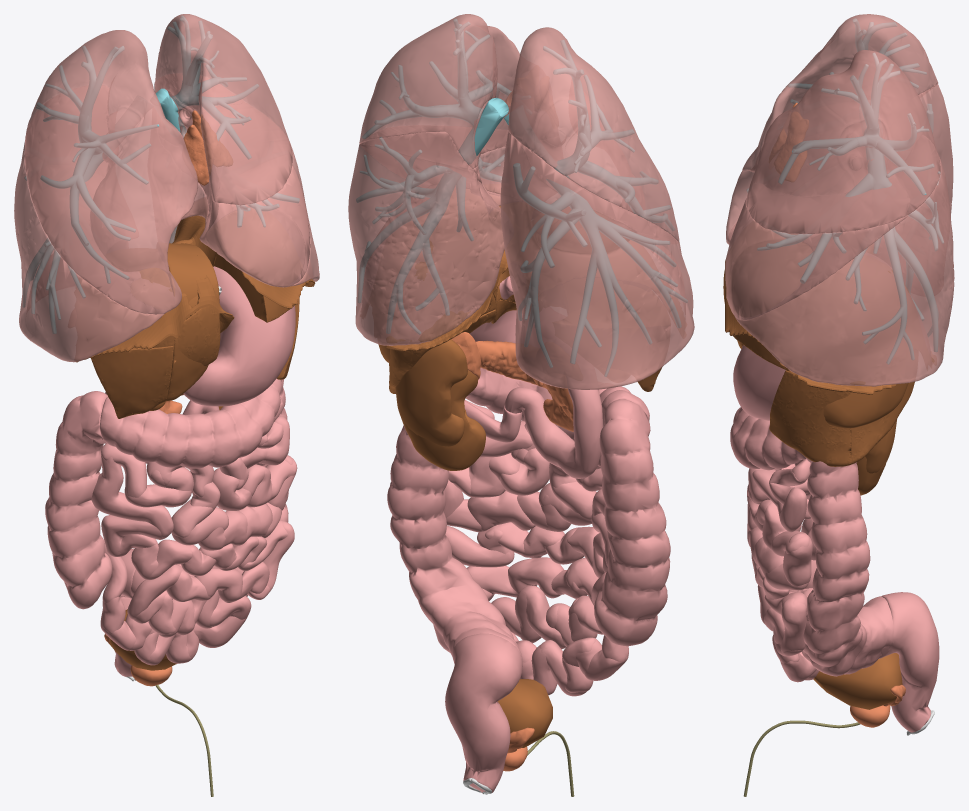
File: organs.glb
3 renders of one model, left to right at view 1: azimuth 30°, elevation 25°; view 2: azimuth 150°, elevation 25°; view 3: azimuth 270°, elevation 25°, orthographic. The views are drawn at different scales.
Visible parts, largest first — view 1: Organo_lobulo_superior_izq, Organo_intestino_delgado, Organo_lobulo_inferior_izq, Organo_lobulo_superior_der, Organo_lobulo_medio_der, Organo_colon_descendente, Organo_colon_transverso, Organo_colon_flexura_hepatica, Organo_bronquio_izq, Organo_bronquio_der, Organo_rinon_corteza_izq, Organo_lobulo_inferior_der (+12 smaller); view 2: Organo_lobulo_inferior_izq, Organo_intestino_delgado, Organo_lobulo_inferior_der, Organo_lobulo_superior_izq, Organo_lobulo_superior_der, Organo_colon_descendente, Organo_bronquio_izq, Organo_bronquio_der, Organo_colon_ascendente, Organo_colon_sigmoide, Organo_rinon_corteza_der, Organo_colon_flexura_esplenica (+9 smaller); view 3: Organo_lobulo_inferior_der, Organo_lobulo_superior_der, Organo_lobulo_medio_der, Organo_colon_ascendente, Organo_intestino_delgado, Organo_bronquio_der, Organo_lobulo_superior_izq, Organo_higado, Organo_colon_sigmoide, Organo_vejiga, Organo_colon_transverso, Organo_colon_flexura_hepatica (+9 smaller).
Boxes of the visible parts, box(x1,y1,x2,y2) form: Organo_lobulo_superior_izq: box(24, 30, 198, 314); Organo_intestino_delgado: box(91, 397, 297, 665); Organo_lobulo_inferior_izq: box(14, 85, 166, 362); Organo_lobulo_superior_der: box(155, 14, 292, 205); Organo_lobulo_medio_der: box(185, 103, 310, 287); Organo_colon_descendente: box(45, 391, 112, 609); Organo_colon_transverso: box(100, 378, 281, 468); Organo_colon_flexura_hepatica: box(183, 266, 295, 406); Organo_bronquio_izq: box(23, 46, 159, 333); Organo_bronquio_der: box(155, 15, 299, 242); Organo_rinon_corteza_izq: box(91, 346, 173, 418); Organo_lobulo_inferior_der: box(154, 74, 319, 286); Organo_lobulo_inferior_izq: box(500, 131, 694, 389); Organo_intestino_delgado: box(443, 400, 628, 696); Organo_lobulo_inferior_der: box(348, 131, 504, 345); Organo_lobulo_superior_izq: box(508, 27, 679, 243); Organo_lobulo_superior_der: box(359, 14, 519, 168); Organo_colon_descendente: box(594, 399, 670, 646); Organo_bronquio_izq: box(504, 40, 687, 376); Organo_bronquio_der: box(356, 19, 511, 334); Organo_colon_ascendente: box(387, 425, 522, 667); Organo_colon_sigmoide: box(445, 633, 522, 792); Organo_rinon_corteza_der: box(395, 339, 467, 446); Organo_colon_flexura_esplenica: box(504, 387, 603, 478); Organo_lobulo_inferior_der: box(734, 135, 954, 386); Organo_lobulo_superior_der: box(746, 50, 940, 233); Organo_lobulo_medio_der: box(725, 175, 909, 320); Organo_colon_ascendente: box(802, 457, 893, 676); Organo_intestino_delgado: box(747, 459, 819, 682); Organo_bronquio_der: box(757, 53, 943, 364); Organo_lobulo_superior_izq: box(726, 14, 938, 244); Organo_higado: box(733, 334, 914, 466); Organo_colon_sigmoide: box(881, 592, 939, 732); Organo_vejiga: box(813, 653, 902, 709); Organo_colon_transverso: box(730, 407, 806, 470); Organo_colon_flexura_hepatica: box(733, 345, 785, 420).
Size of the model in its own units: 0.2622 by 0.6887 by 0.1888.
